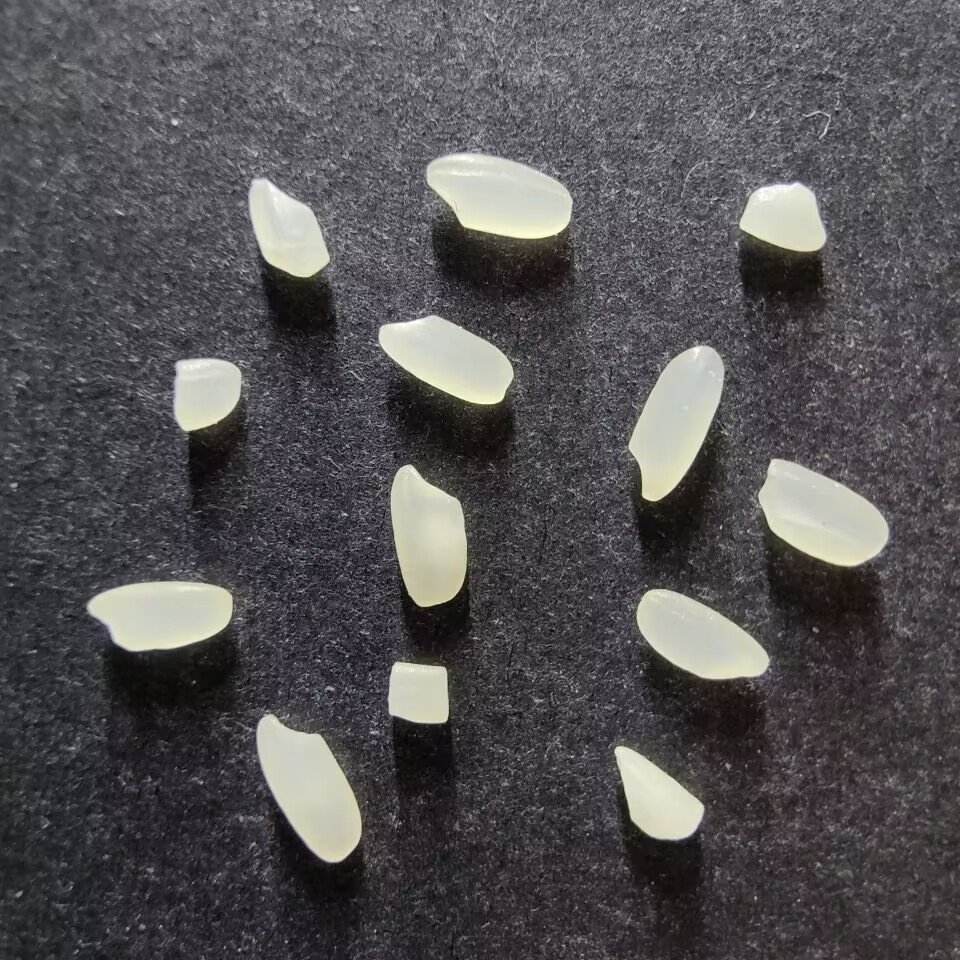broken: (613, 746, 706, 841), (248, 175, 330, 278), (737, 183, 827, 252), (171, 358, 242, 431), (386, 660, 449, 724)
rice: (255, 713, 362, 863), (627, 344, 724, 501), (756, 457, 888, 567), (424, 154, 571, 239), (635, 588, 769, 681), (377, 315, 514, 405), (389, 464, 468, 607), (86, 580, 233, 651)
